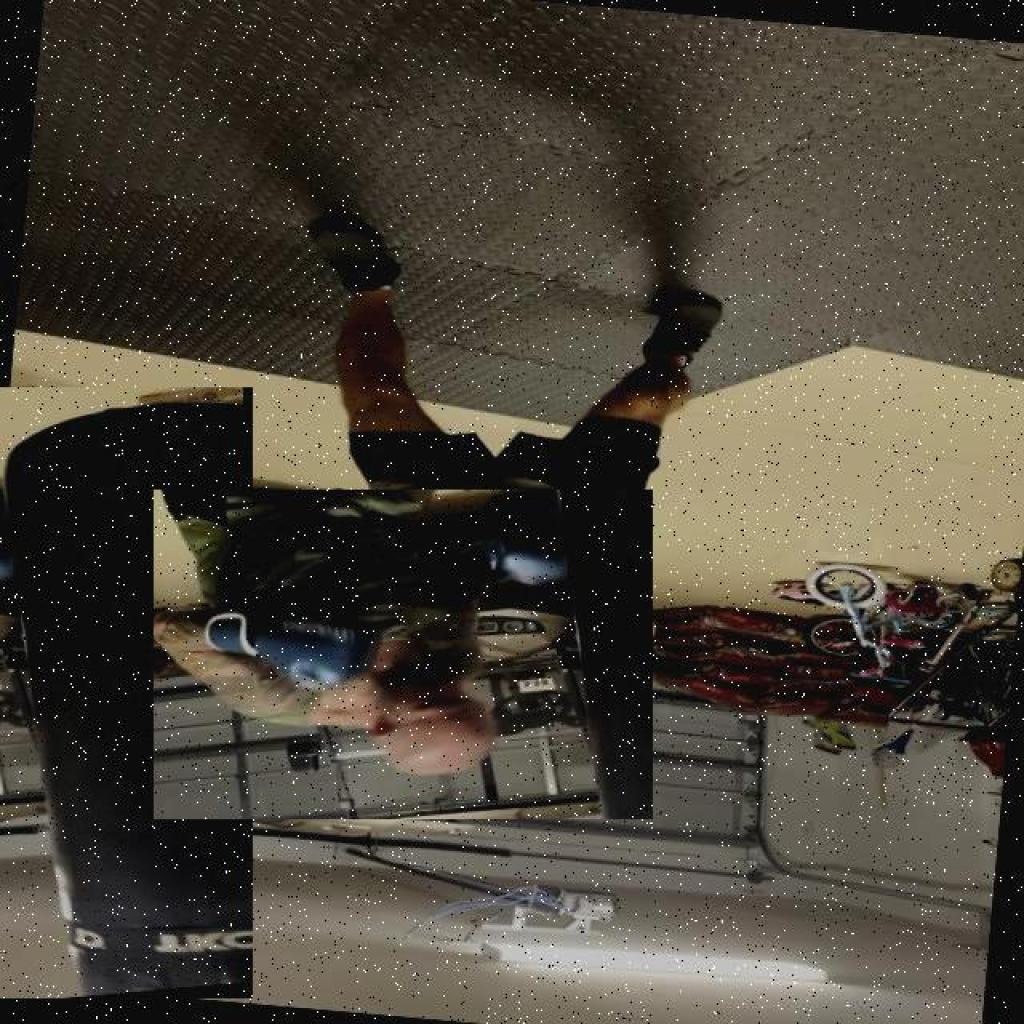bag: (0, 388, 253, 998)
uppercut: (154, 490, 652, 819)
